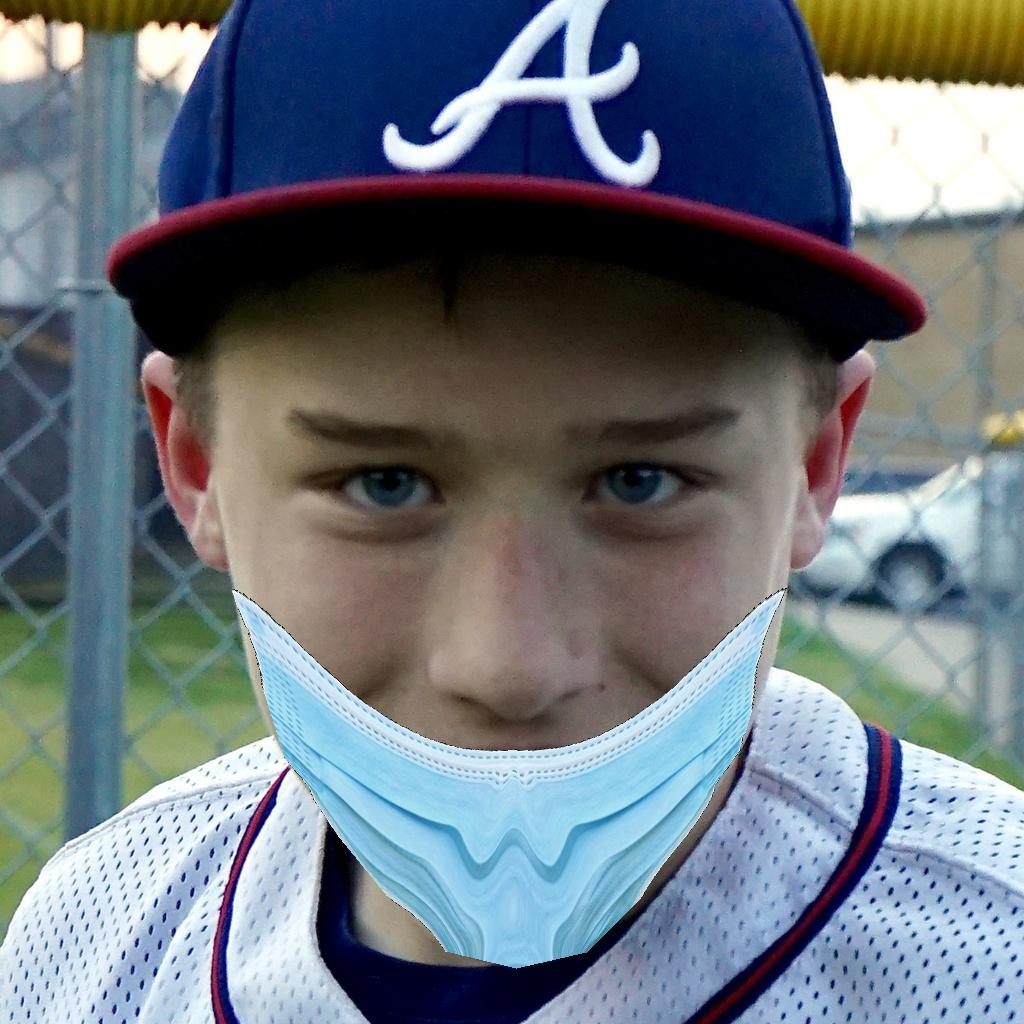Máscara Incorreta: (218, 327, 793, 927)
